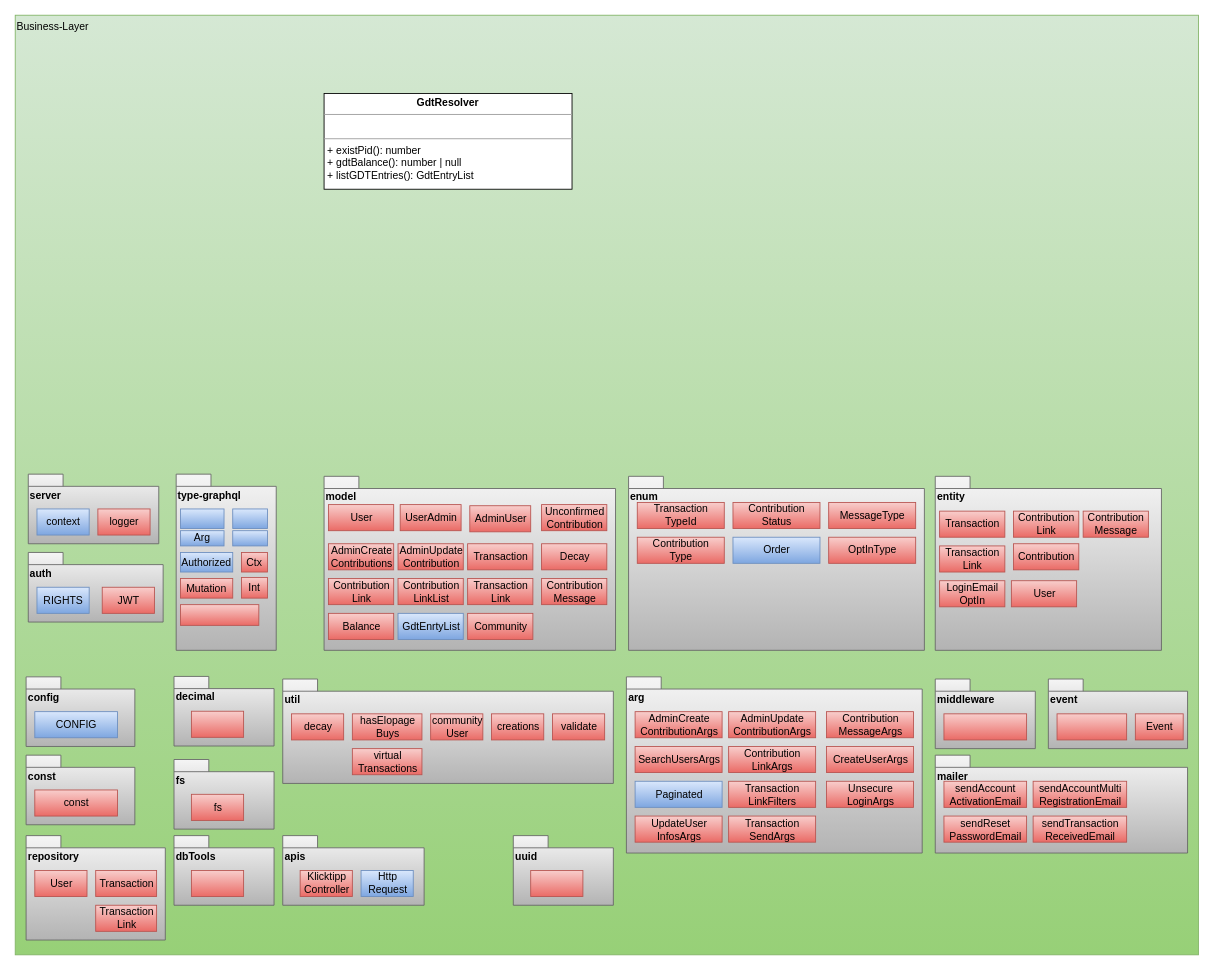
Image size: 1214x970. Some labels were removed from this diagram. The shapes that lost their labels are listed below. From the top down, each one's centre as x and y in pixels, then its label:
[202,518]: Resolver
[250,518]: Query
[250,538]: Args
[219,614]: UseMiddleware
[217,723]: js-light
[985,726]: klicktipp Middleware
[1091,726]: EventProtocol Emitter
[217,883]: typeorm
[556,883]: v4
